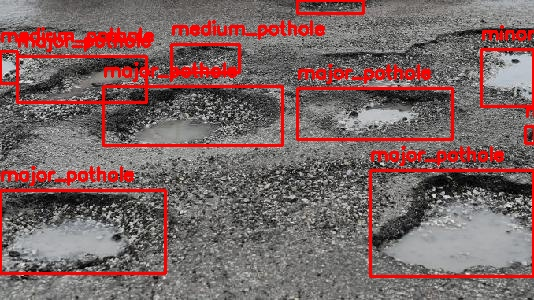major_pothole: (370, 170, 533, 276), (0, 190, 165, 273), (103, 86, 282, 145), (297, 88, 452, 139), (17, 56, 146, 102)
medium_pothole: (171, 44, 239, 72), (297, 0, 363, 13), (0, 51, 17, 83), (525, 126, 534, 143)
minor_pothole: (481, 49, 533, 106)
